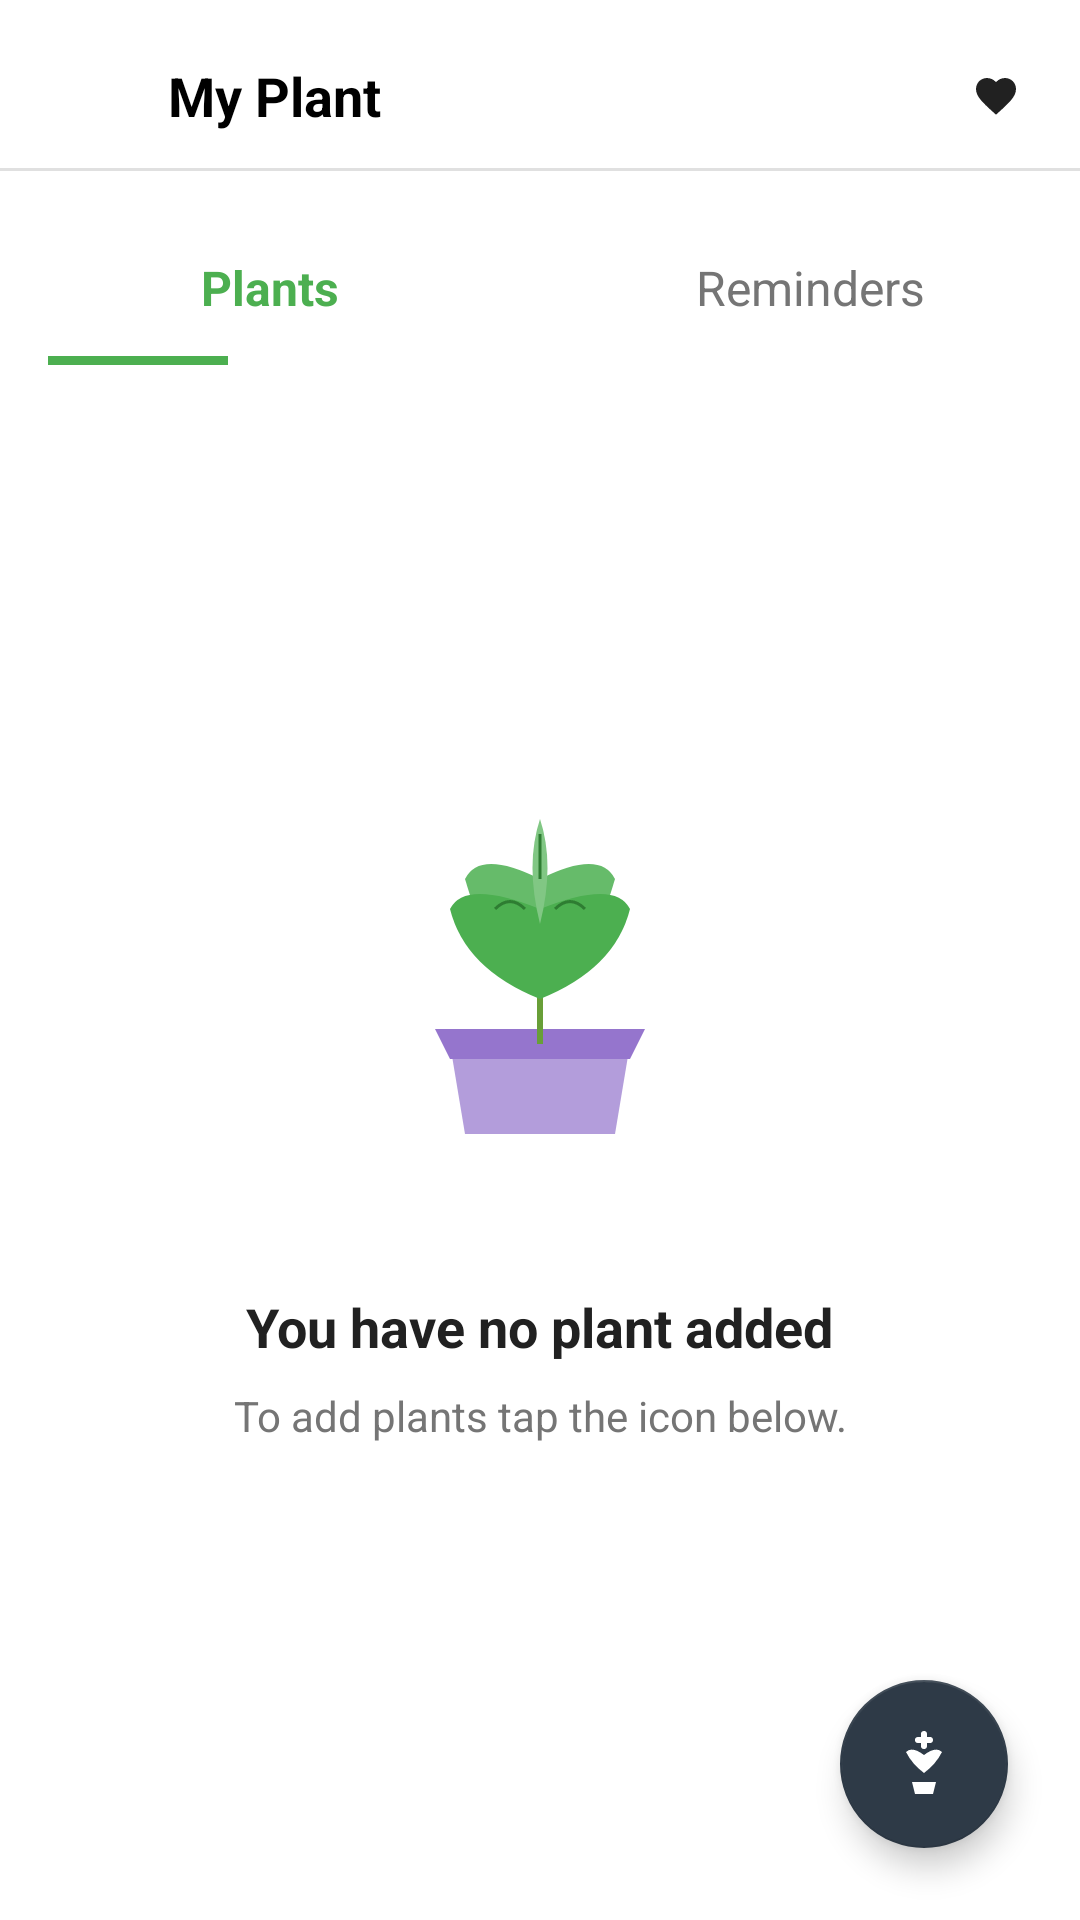

Icons on this 1080×1920 Android screen, each with the point to tap as (x=x, y=y):
Add Plant: (x=924, y=1764)
Favorite: (x=996, y=96)
No plants: (x=540, y=977)
